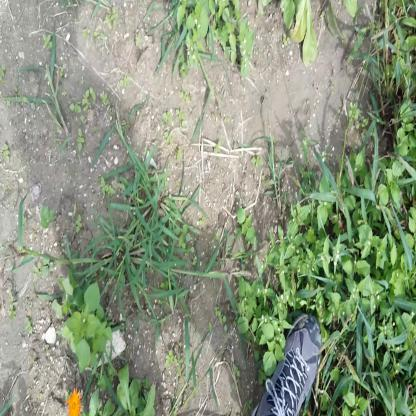marigold: (67, 387, 79, 416)
